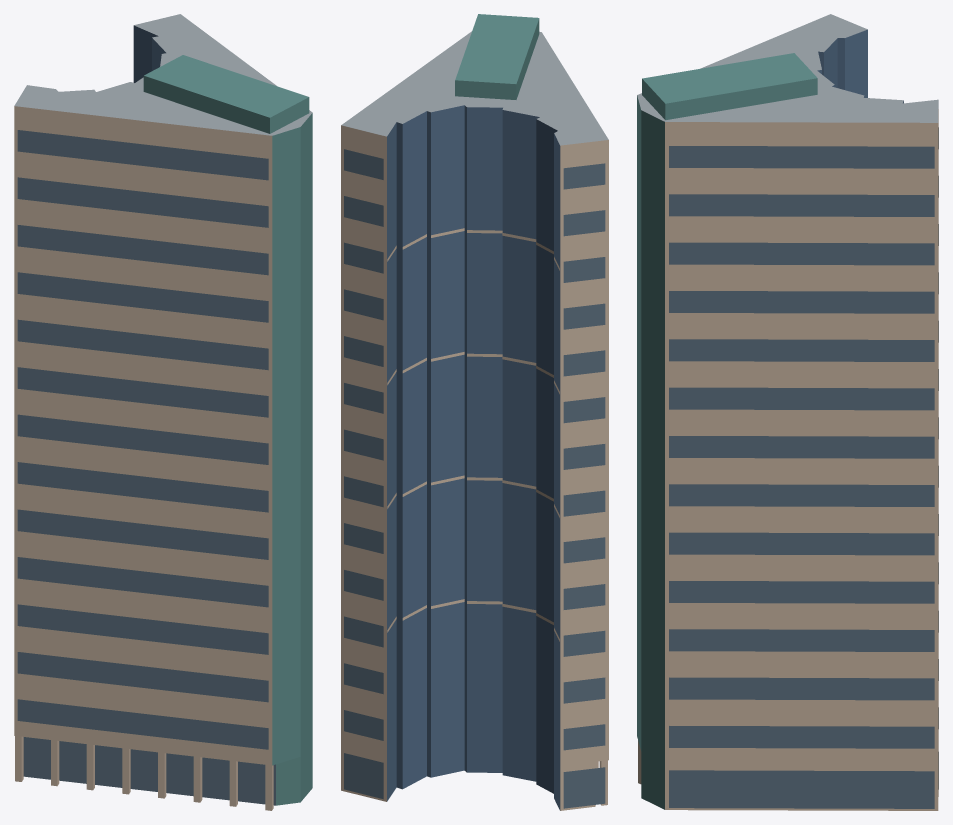
The model's file is den-1999-broadway.glb.
3 views of the same model, side by side, from view 1: azimuth 30°, elevation 25°; view 2: azimuth 150°, elevation 25°; view 3: azimuth 270°, elevation 25° (orthographic). The views are drawn at different scales.
Visible parts, largest first — view 1: 1999 Broadway; view 2: 1999 Broadway; view 3: 1999 Broadway.
Part boxes in pixels (<box>): 1999 Broadway: <box>14,14,312,810</box>; 1999 Broadway: <box>341,14,608,810</box>; 1999 Broadway: <box>637,14,938,810</box>.
Size of the model in its own units: 55.12 by 166 by 64.5.
